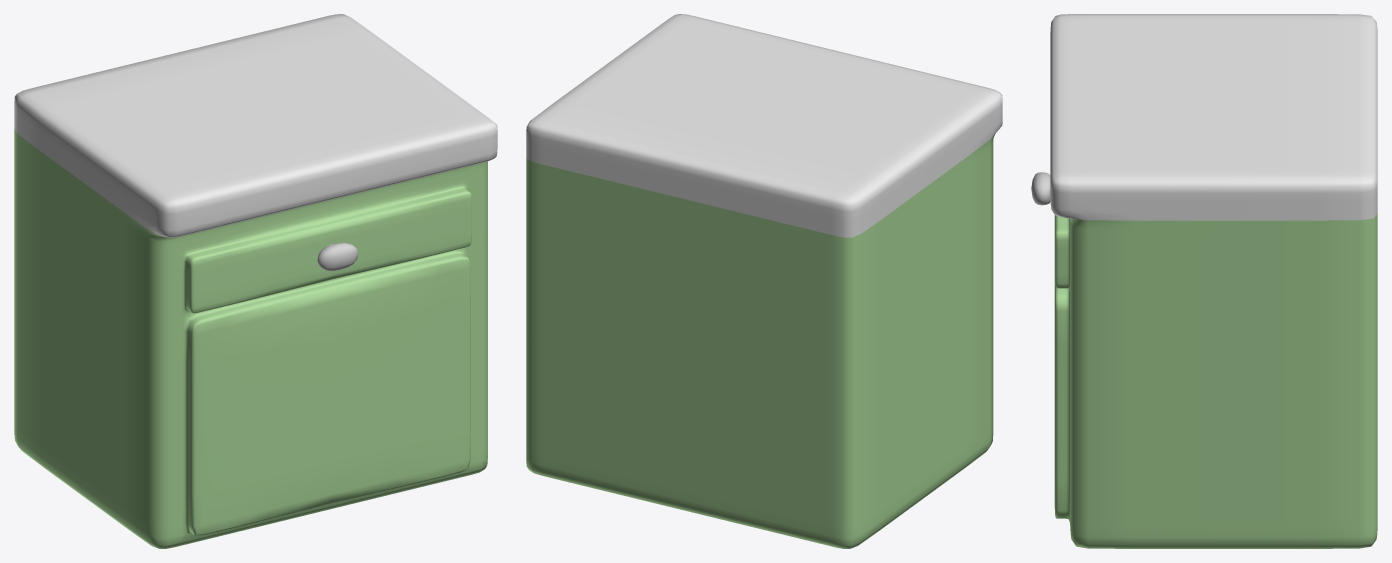
Rendered from counter.fbx.
The picture shows the model from 3 angles, left to right: view 1: azimuth 30°, elevation 25°; view 2: azimuth 150°, elevation 25°; view 3: azimuth 270°, elevation 25°; orthographic projection. The views are drawn at different scales.
Visible parts, largest first — view 1: Counter; view 2: Counter; view 3: Counter.
Part boxes in pixels (x1,y1,x2,y2): Counter: (14, 14, 497, 548); Counter: (526, 14, 1002, 548); Counter: (1031, 14, 1377, 548).
Size of the model in its own units: 244 by 247 by 208.
